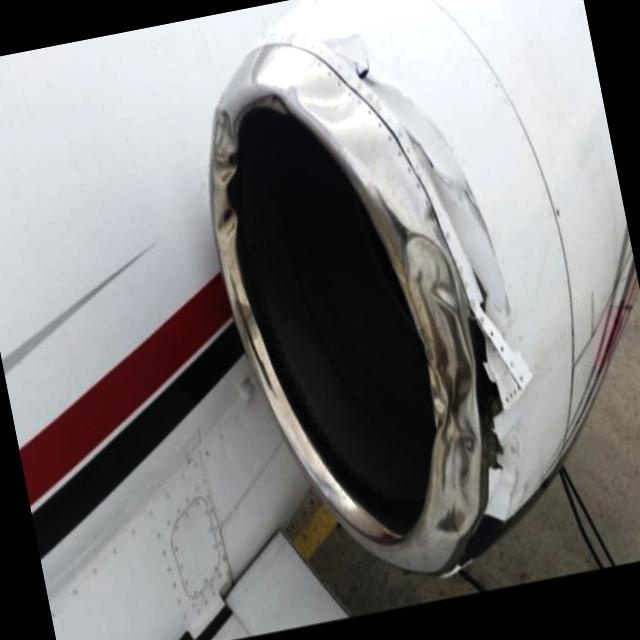dent: (374, 224, 502, 536), (192, 104, 254, 235), (286, 58, 366, 140)
